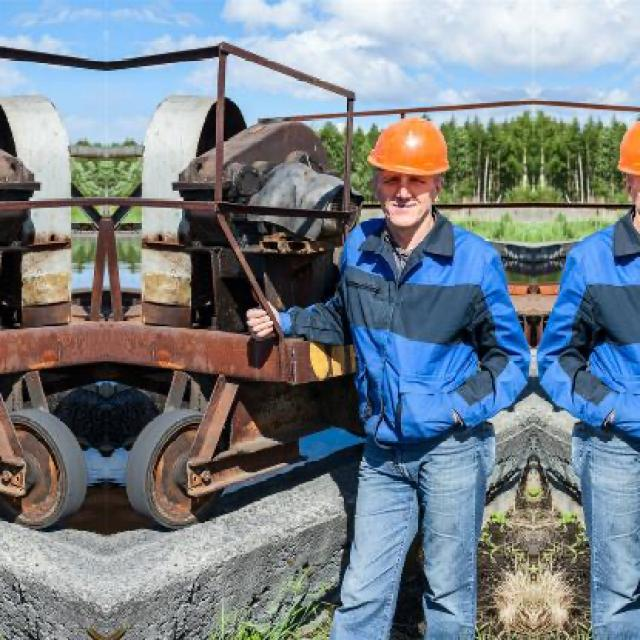con casco: (325, 103, 504, 252)
